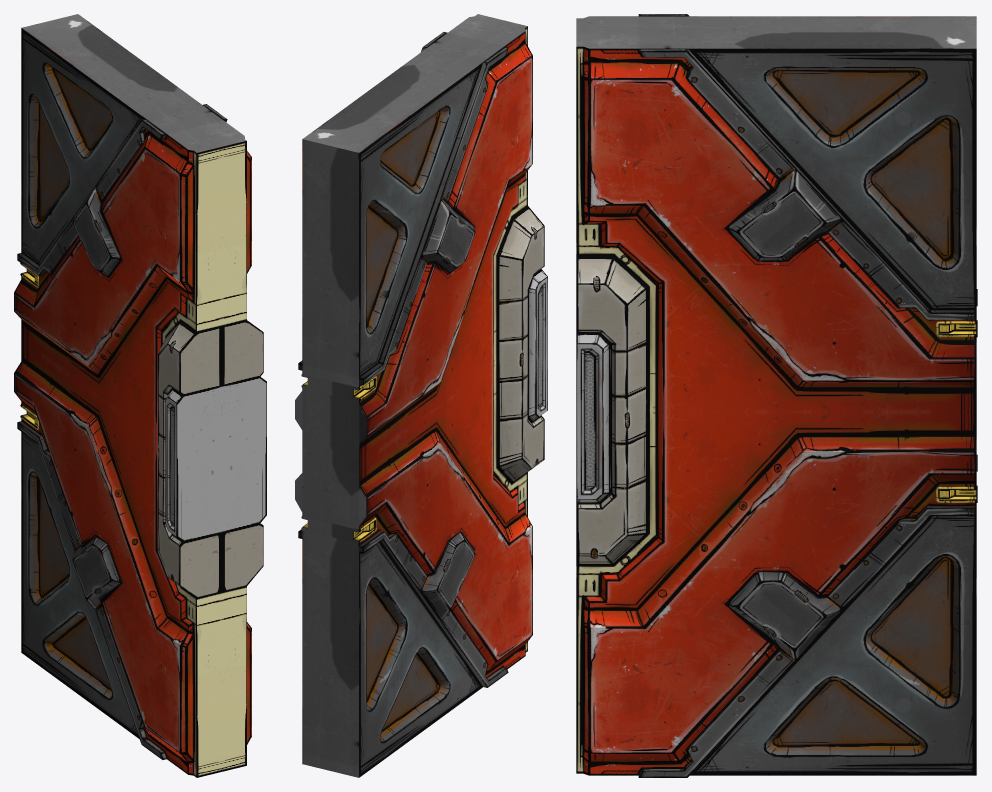
File: SM_Atlas_IronBear_Door2_Right.obj
3 renders of one model, left to right at view 1: azimuth 30°, elevation 25°; view 2: azimuth 150°, elevation 25°; view 3: azimuth 270°, elevation 25°, orthographic. The views are drawn at different scales.
Visible parts, largest first — view 1: SM_Atlas_IronBear_Door2_Right; view 2: SM_Atlas_IronBear_Door2_Right; view 3: SM_Atlas_IronBear_Door2_Right.
Part boxes in pixels (x1=…): SM_Atlas_IronBear_Door2_Right: x1=14, y1=14, x2=266, y2=777; SM_Atlas_IronBear_Door2_Right: x1=295, y1=14, x2=547, y2=777; SM_Atlas_IronBear_Door2_Right: x1=576, y1=14, x2=977, y2=777.
Size of the model in its own units: 60.32 by 400 by 200.
Materials: 1 (1 with a texture image).
